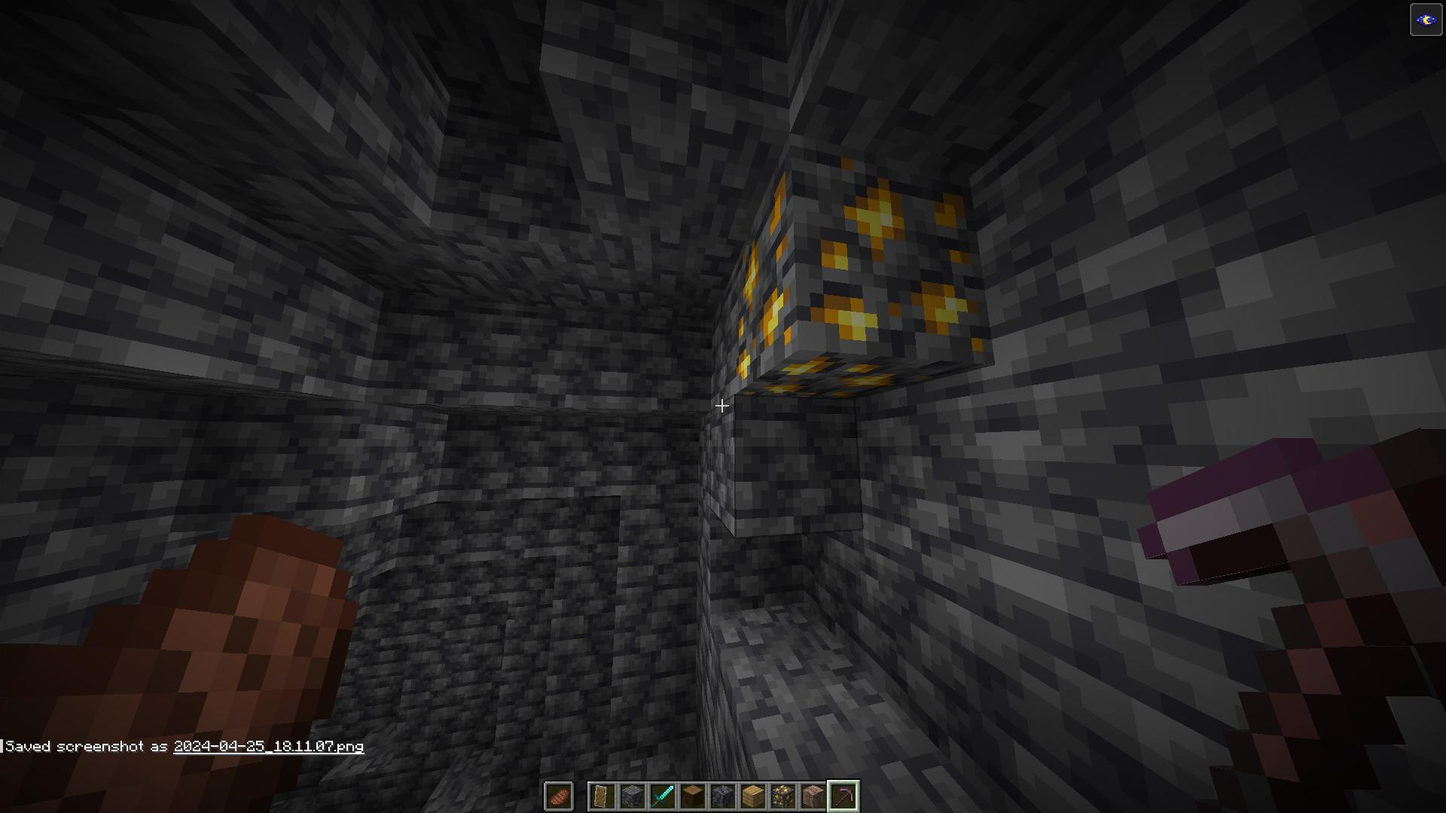gold ore: (794, 148, 982, 351), (726, 169, 796, 377), (739, 352, 964, 399)
